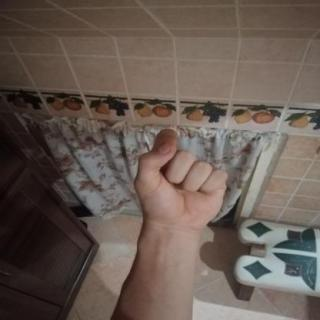FAA: (124, 124, 237, 240)
